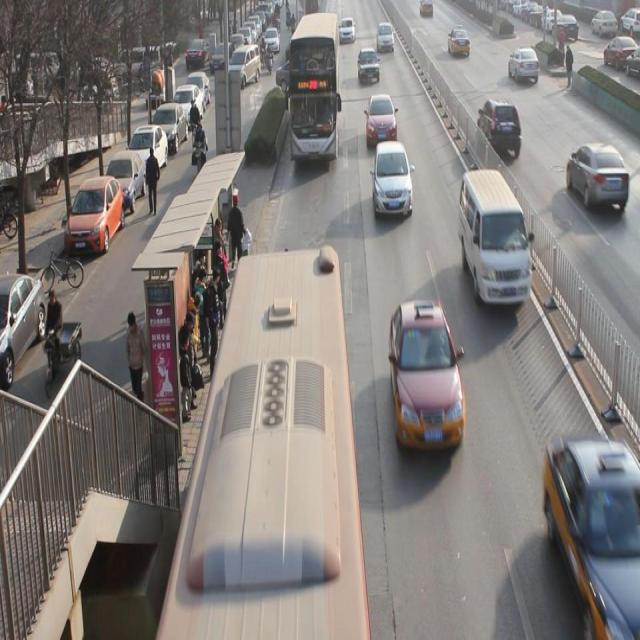car: (547, 436, 640, 626), (389, 308, 466, 450), (568, 143, 629, 215), (373, 144, 414, 219), (477, 102, 522, 156), (367, 95, 398, 149), (284, 58, 316, 100), (507, 47, 541, 83), (357, 51, 380, 84), (449, 27, 472, 60), (375, 24, 395, 52), (339, 19, 356, 43)
truck: (459, 176, 532, 308)
van: (162, 249, 369, 634), (289, 13, 340, 162)
